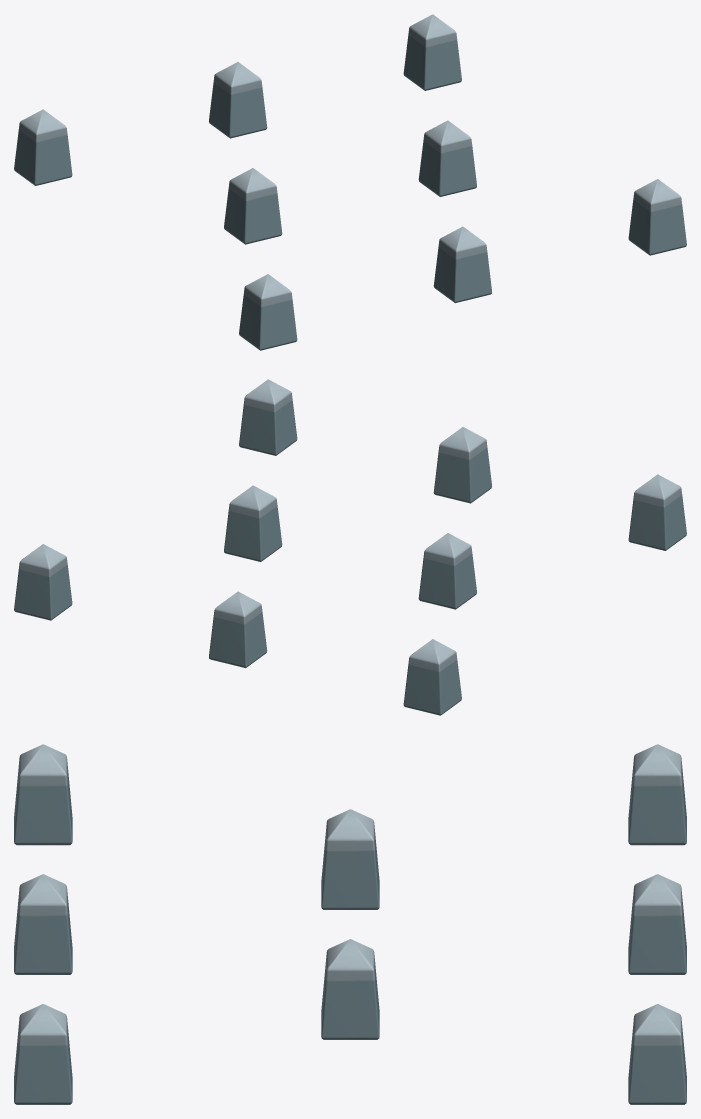
File: Props.fbx
3 views of the same model, one above another, from view 1: azimuth 30°, elevation 25°; view 2: azimuth 150°, elevation 25°; view 3: azimuth 270°, elevation 25° (orthographic). The views are drawn at different scales.
Parts seen in each view (by area): view 1: 棱锥 (×8); view 2: 棱锥 (×8); view 3: 棱锥 (×8).
Part boxes in pixels (<box>): 棱锥 (×8): <box>14,14,686,350</box>; 棱锥 (×8): <box>14,379,686,715</box>; 棱锥 (×8): <box>14,744,686,1104</box>.
Bounding box in the file's own units: 43.89 × 6.42 × 43.81.
1 material, 1 textured.
